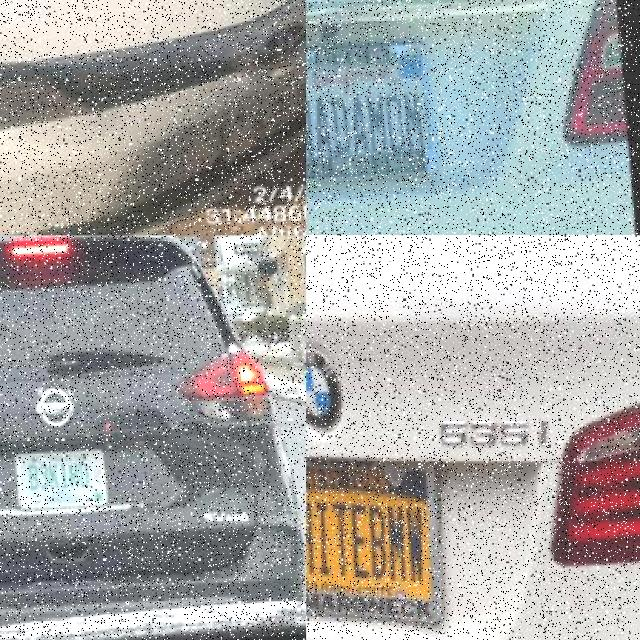licenseplate: (306, 452, 444, 619), (306, 29, 445, 180), (222, 66, 306, 162), (15, 441, 111, 504)
